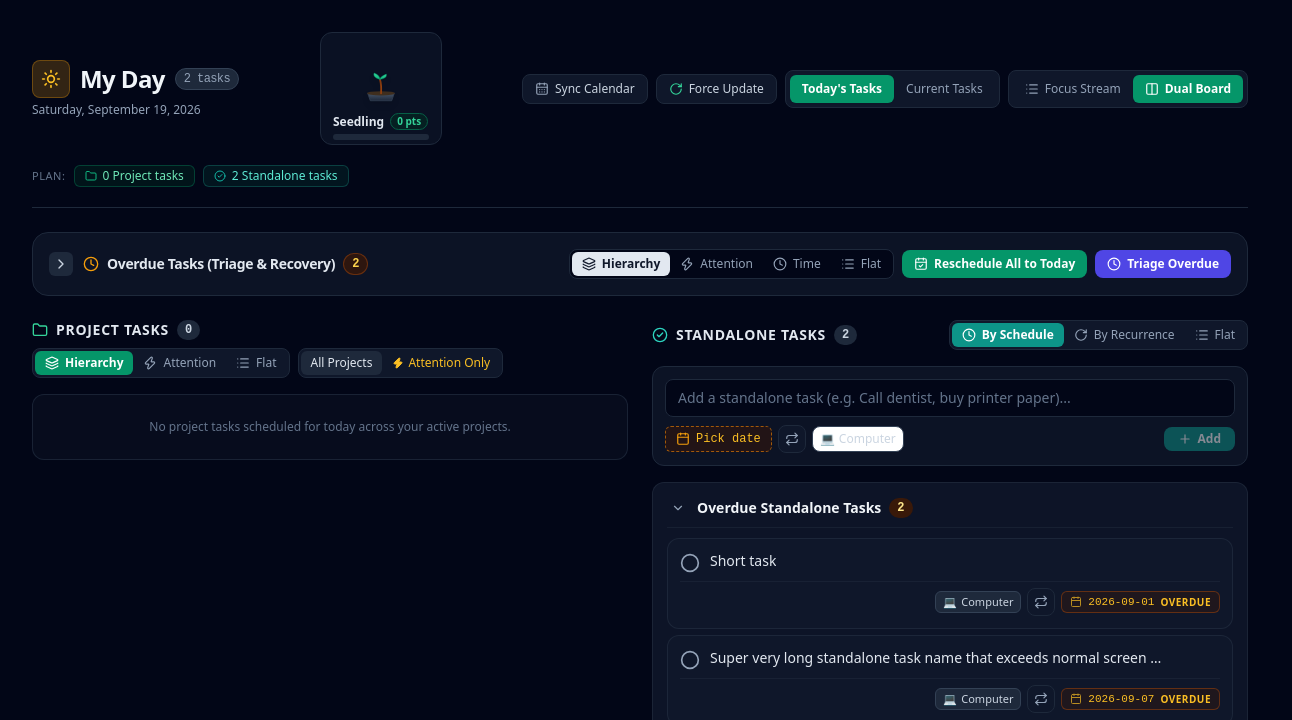
Scenario: Standalone Tasks Name Editing and Tooltip in MyDayView › enables submission when a date is selected and creates task, then resets date to empty
The width and height of the screenshot is (1292, 720).
Replace the text in the field with placeholder "Add a standalone task" with "Buy groceries" at (950,398), box top-left (665, 379), bottom-right (1235, 417)
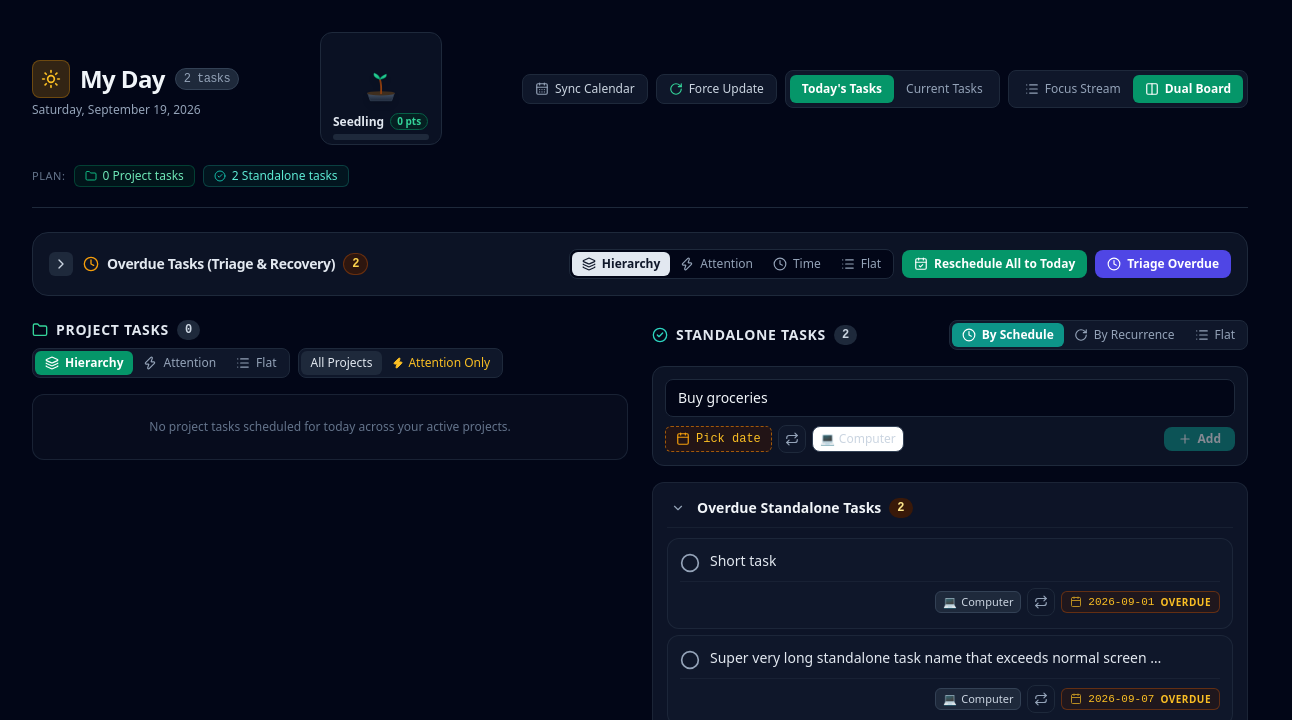
// Click date button to open CalendarPicker
Click the button titled "Select due date (required)" at (718,439), box top-left (665, 426), bottom-right (772, 452)
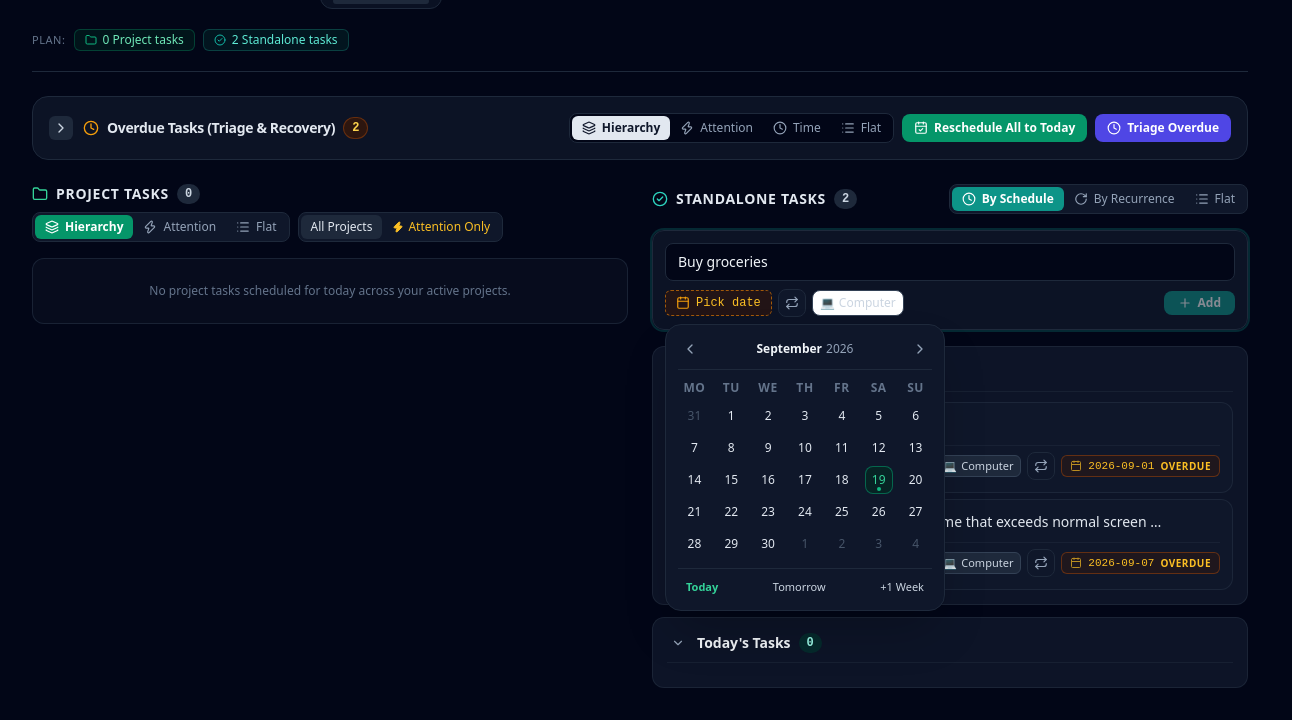
// CalendarPicker quick button "Today"
Click the button "Today" at (702,587), box top-left (678, 577), bottom-right (726, 598)
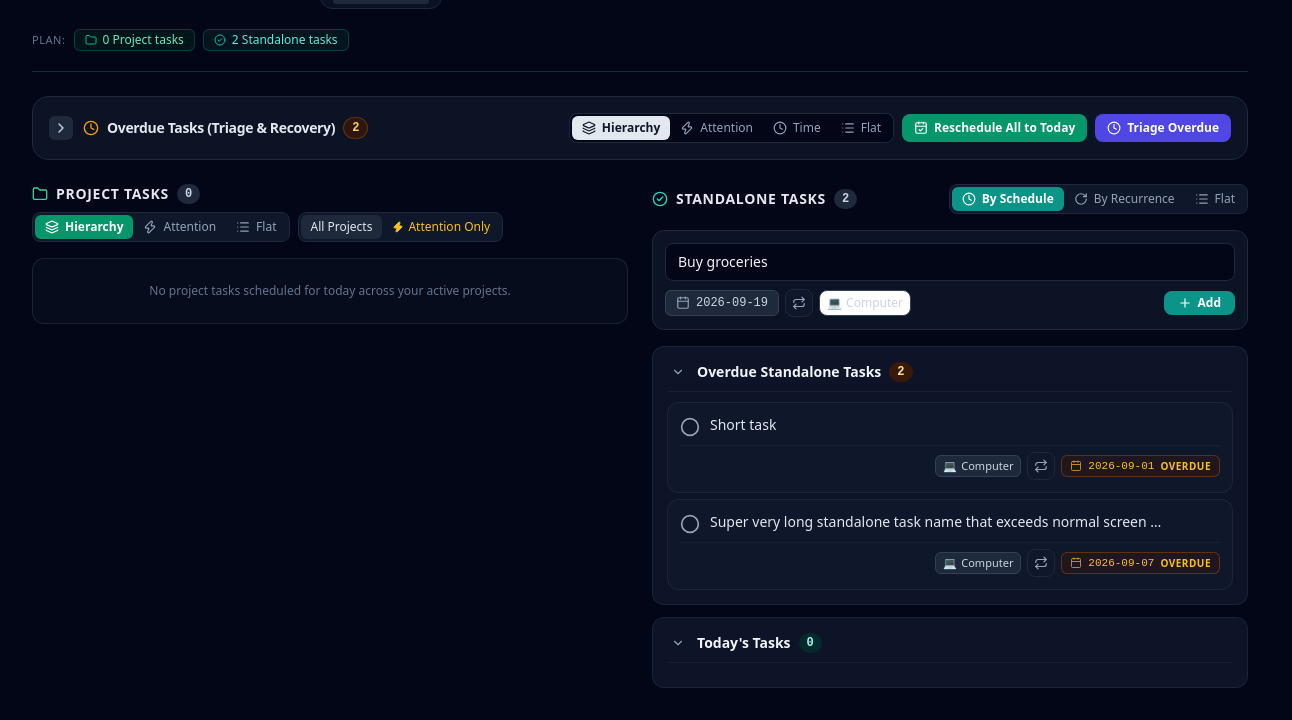
Now the button titled "Add task" is enabled
Click the button titled "Add task" at (1199,303), box top-left (1164, 291), bottom-right (1235, 315)
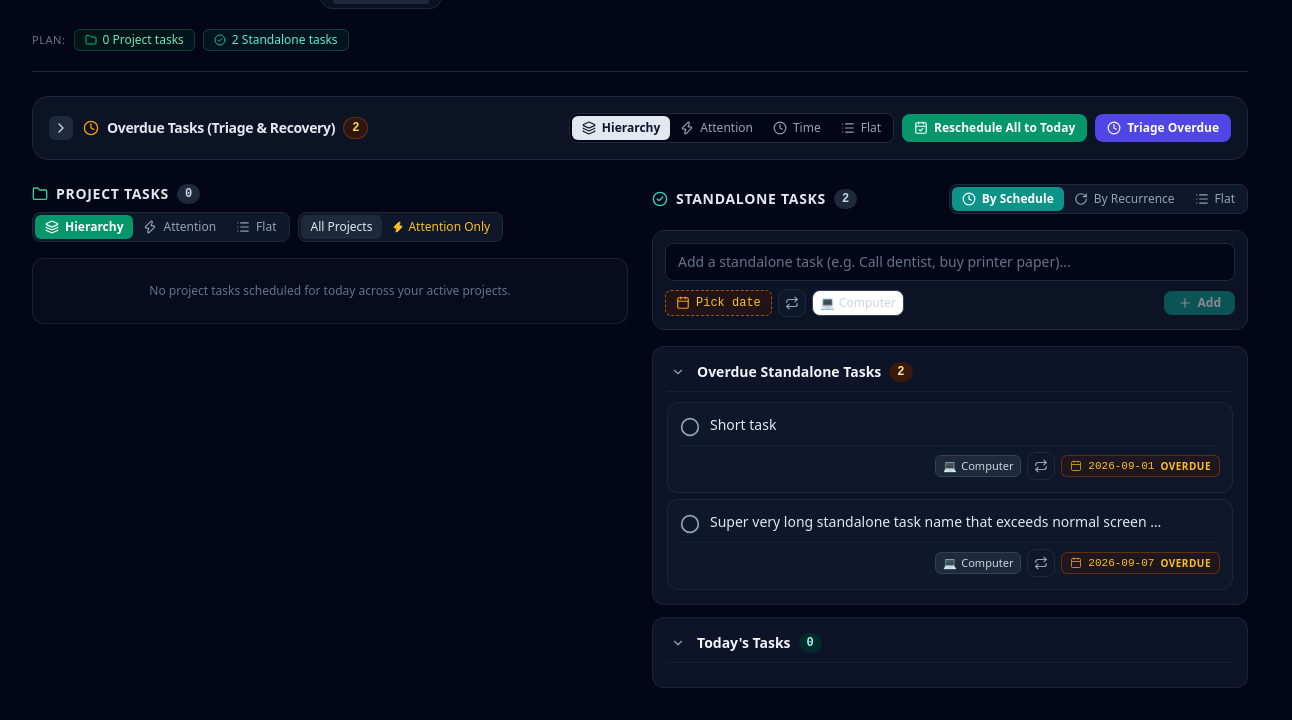
Now the field with placeholder "Add a standalone task" is empty, box top-left (665, 243), bottom-right (1235, 281)
Now the button titled "Select due date (required)" reads "Pick date", box top-left (665, 290), bottom-right (772, 316)
